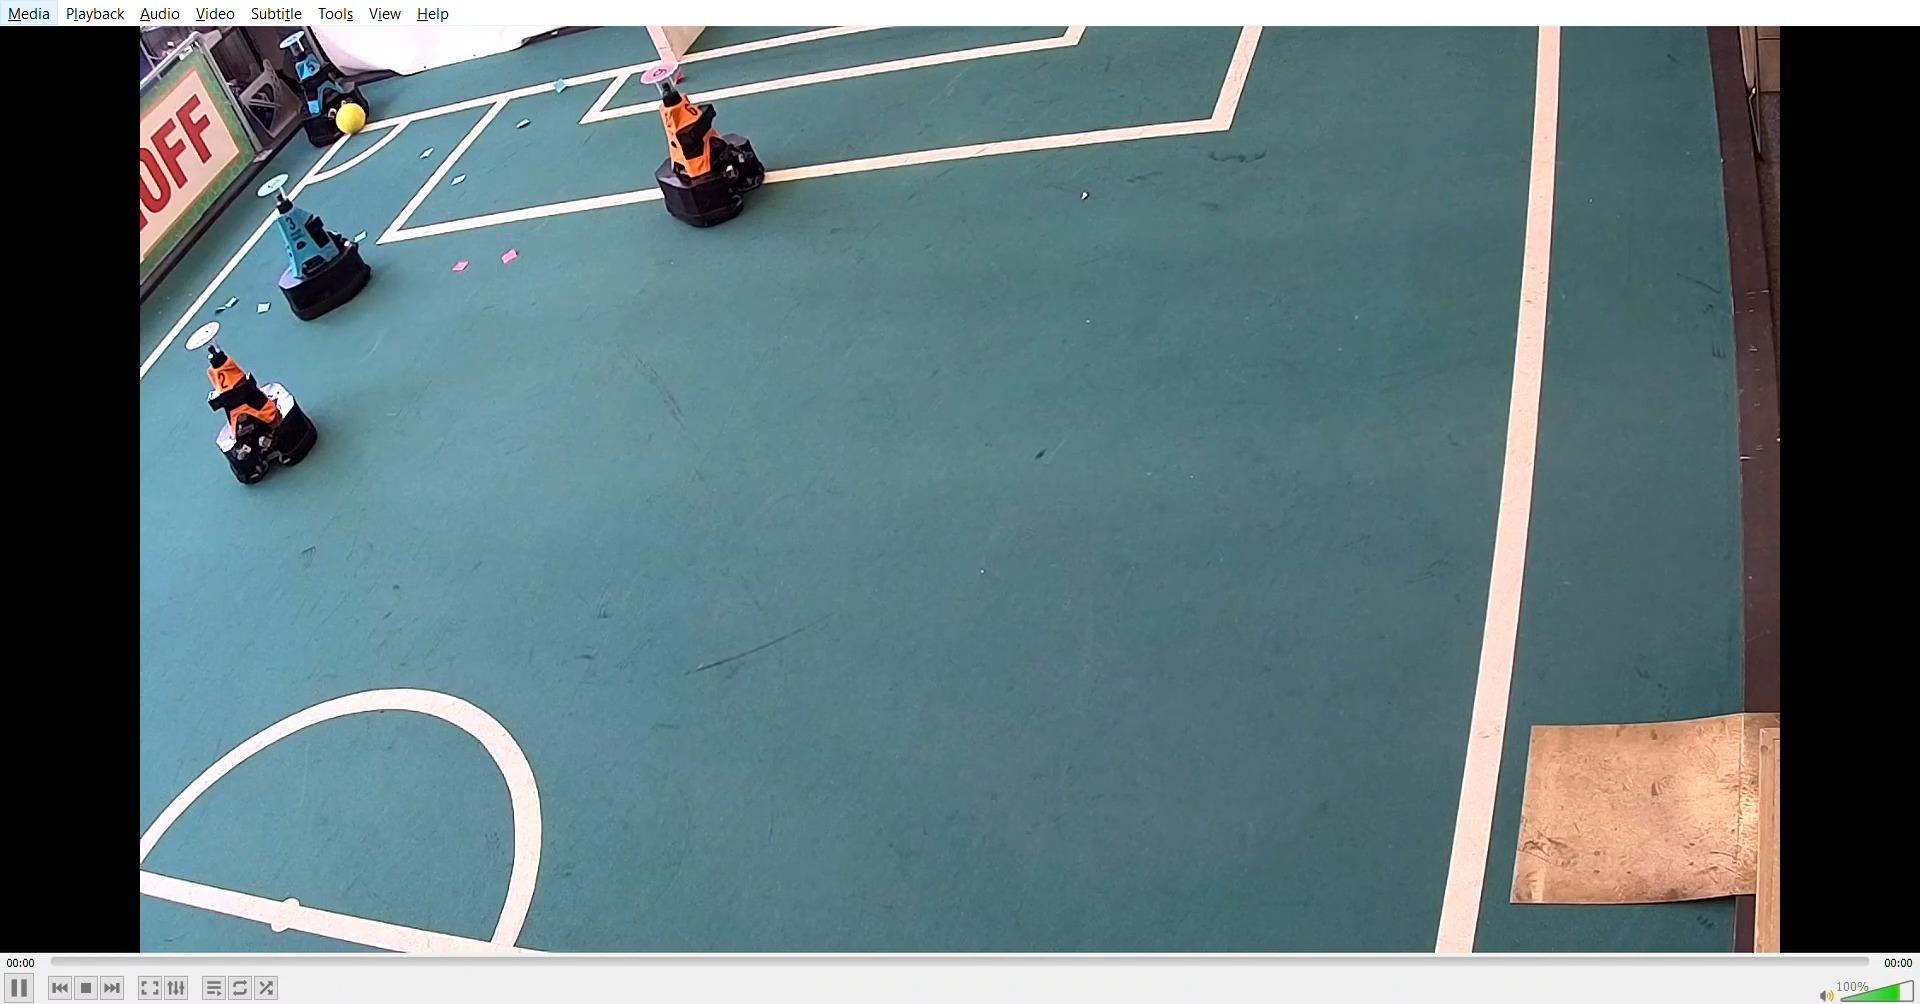Ball: (323, 100, 376, 136)
Team_Blue: (259, 173, 378, 315), (282, 32, 382, 146)
Team_Red: (637, 57, 778, 240), (180, 319, 329, 489)
